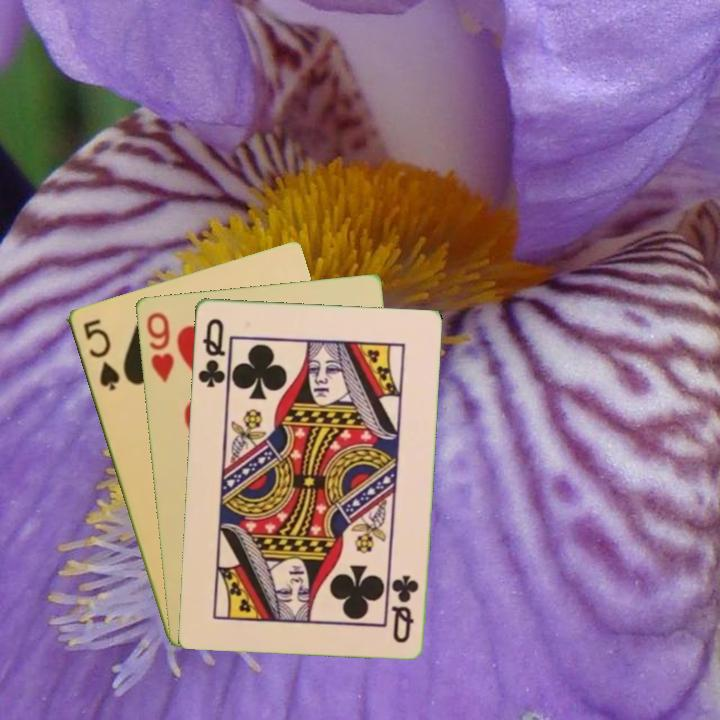5s: (79, 315, 123, 394)
9h: (142, 308, 177, 384)
Qc: (194, 314, 228, 390), (388, 571, 421, 646)
